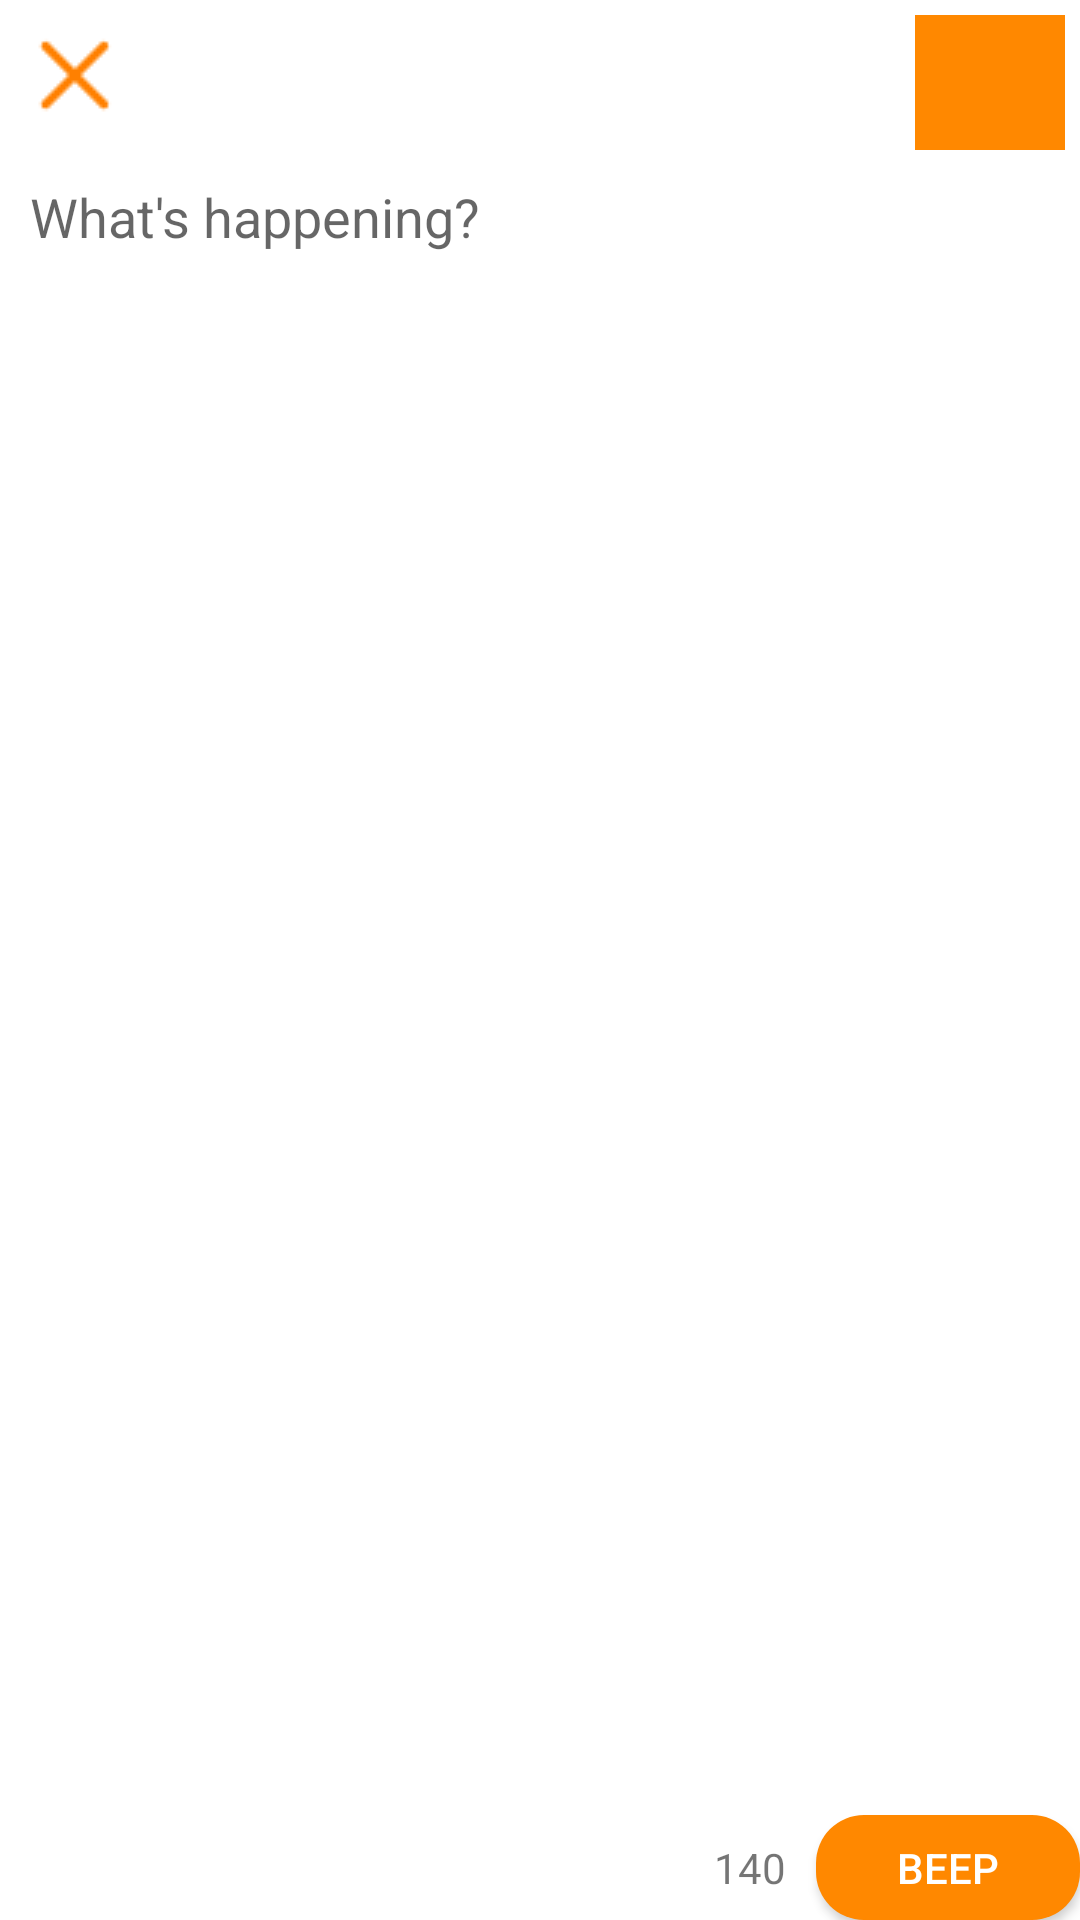

Icons on this 1080×1920 Android screen, each with its box as [x1,y1,x2,y2]:
close: [39,41,109,111]
